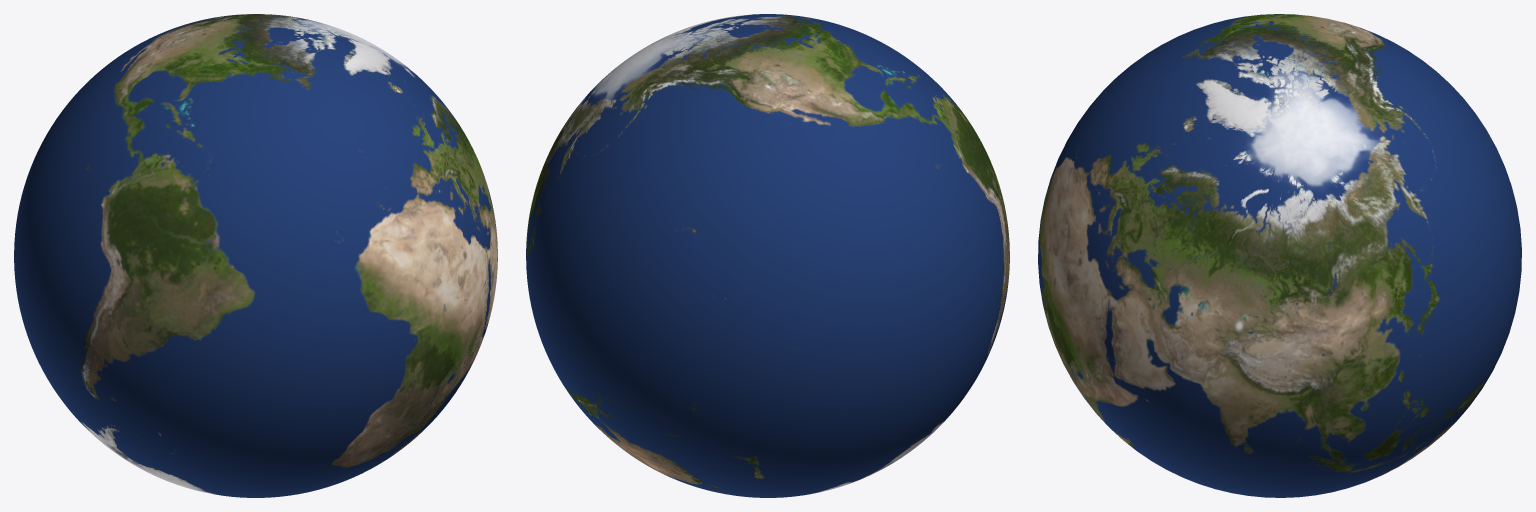
Rendered from earth.glb.
3 views of the same model, side by side, from view 1: azimuth 30°, elevation 25°; view 2: azimuth 150°, elevation 25°; view 3: azimuth 270°, elevation 25° (orthographic).
Parts seen in each view (by area): view 1: surface; view 2: surface; view 3: surface.
Part boxes in pixels (x1,y1,x2,y2): surface: [14, 14, 497, 497]; surface: [526, 14, 1009, 497]; surface: [1038, 14, 1521, 497].
Size of the model in its own units: 4 by 4 by 4.
Materials: 1 (1 with a texture image).
